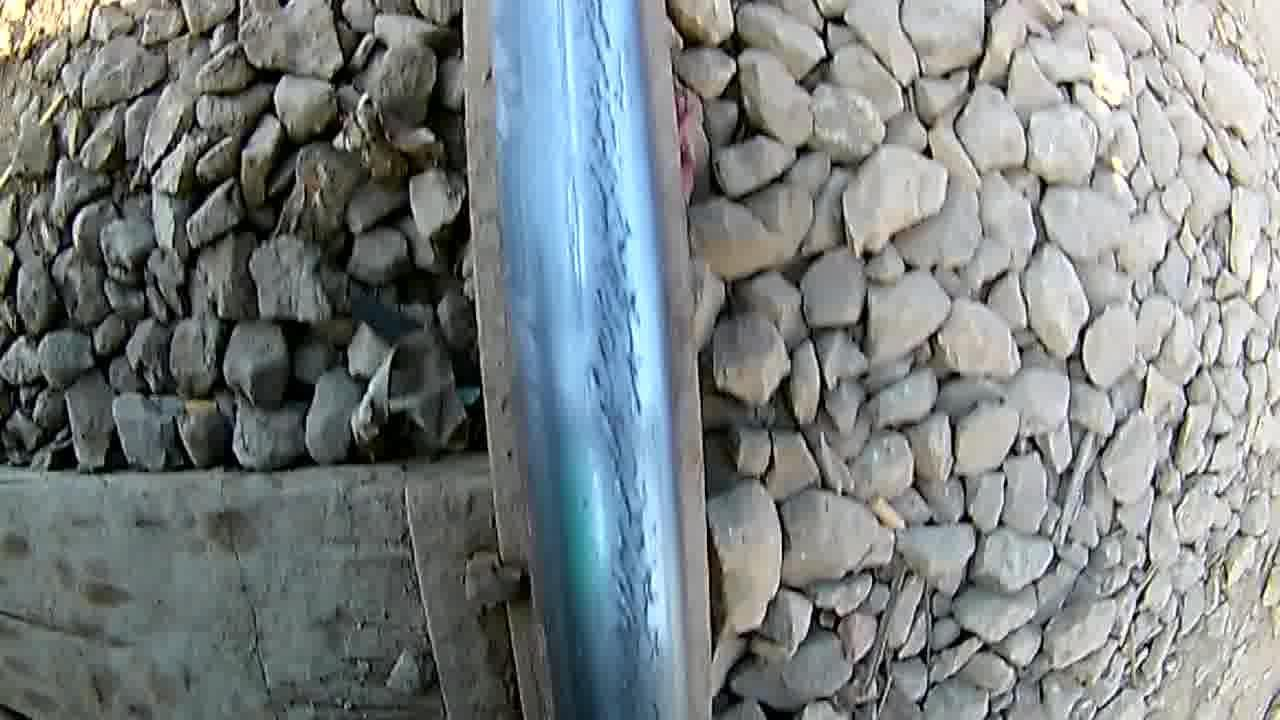crack: (564, 0, 663, 704)
